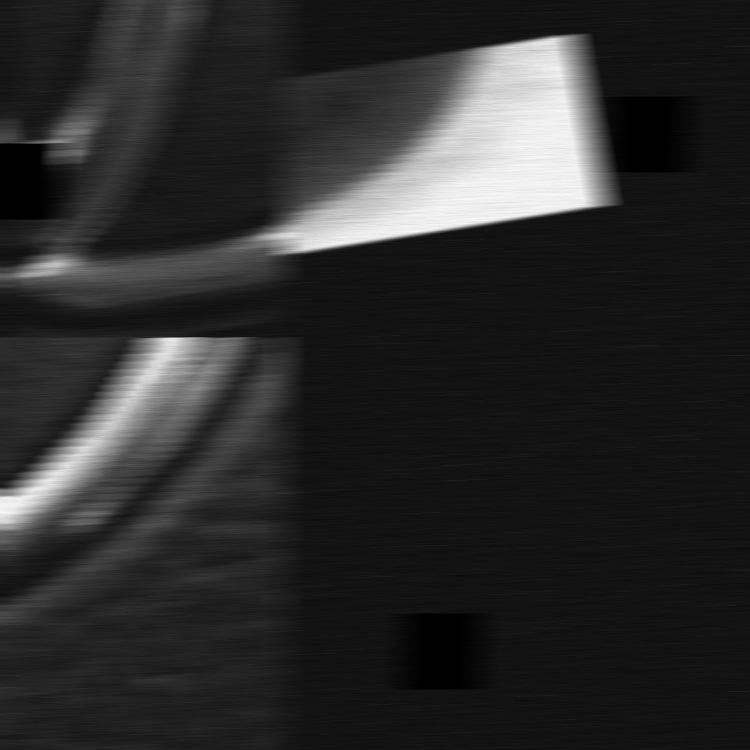Airbag: (0, 337, 290, 750), (0, 0, 290, 337), (280, 12, 614, 297)
